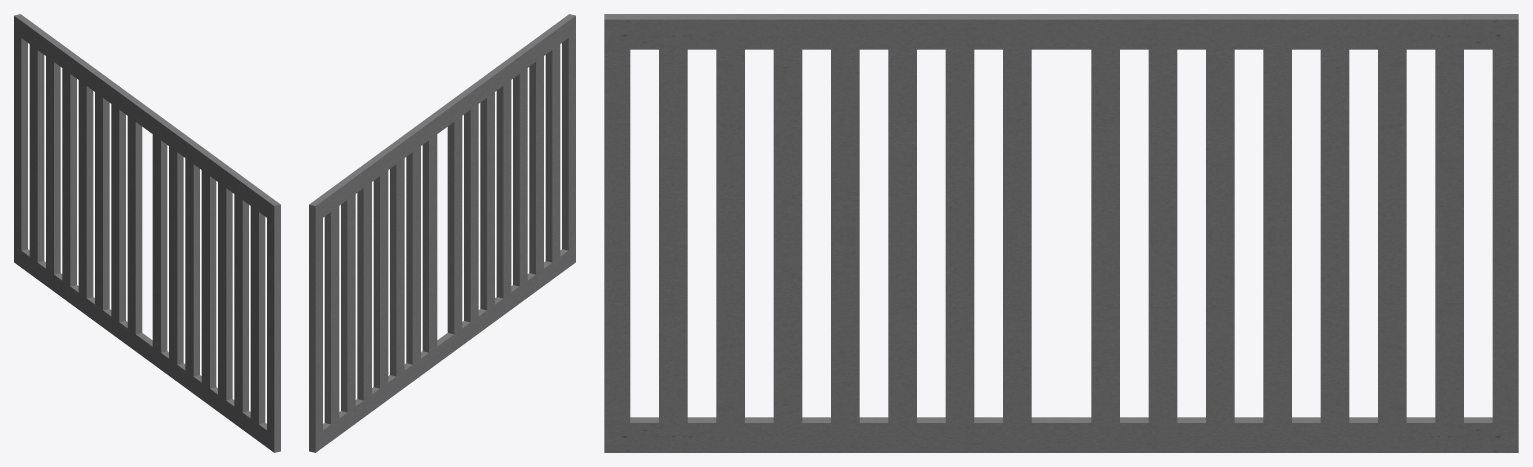
The model's file is Gate.fbx.
3 views of the same model, side by side, from view 1: azimuth 30°, elevation 25°; view 2: azimuth 150°, elevation 25°; view 3: azimuth 270°, elevation 25° (orthographic). The views are drawn at different scales.
Visible parts, largest first — view 1: Cube; view 2: Cube; view 3: Cube.
Part boxes in pixels (x1,y1,x2,y2): Cube: (14,14,280,452); Cube: (309,14,575,452); Cube: (604,14,1518,452).
Bounding box in the file's own units: 27.61 × 993 × 1899.
